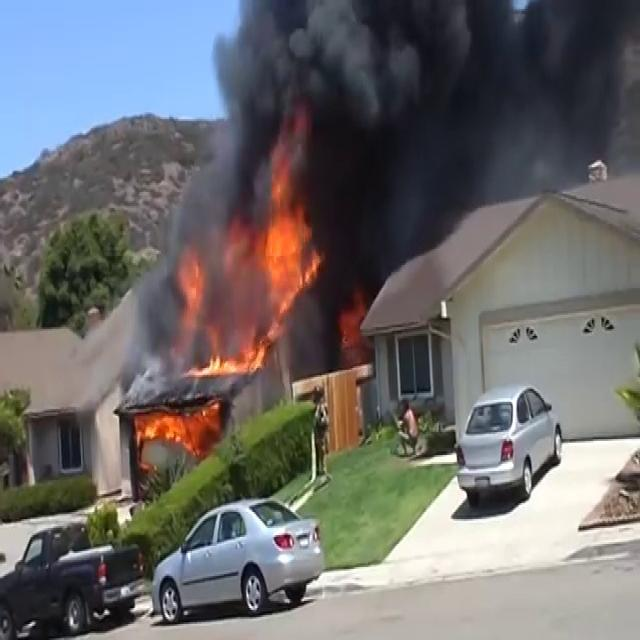Fire: (220, 178, 320, 364), (132, 396, 208, 465), (178, 245, 208, 320)
Smoke: (170, 2, 638, 269)
